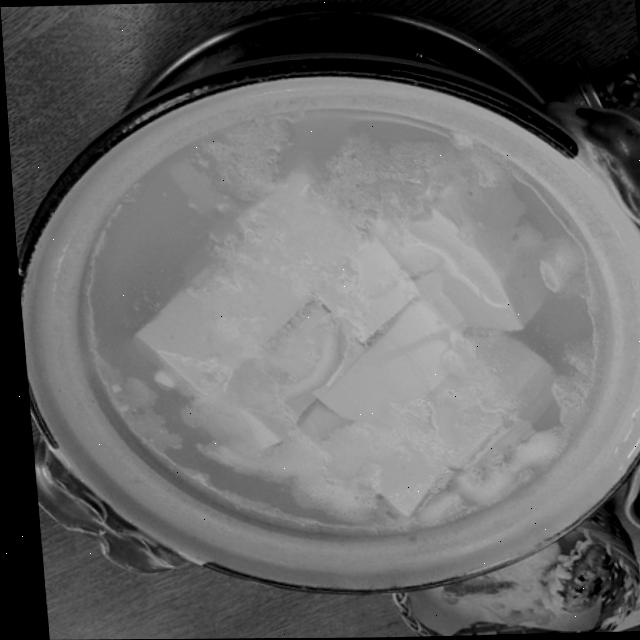豆腐料理: (11, 65, 640, 593)
